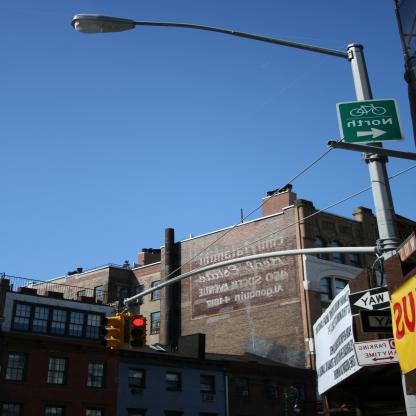Streetlights 1: (15, 2, 392, 409)
